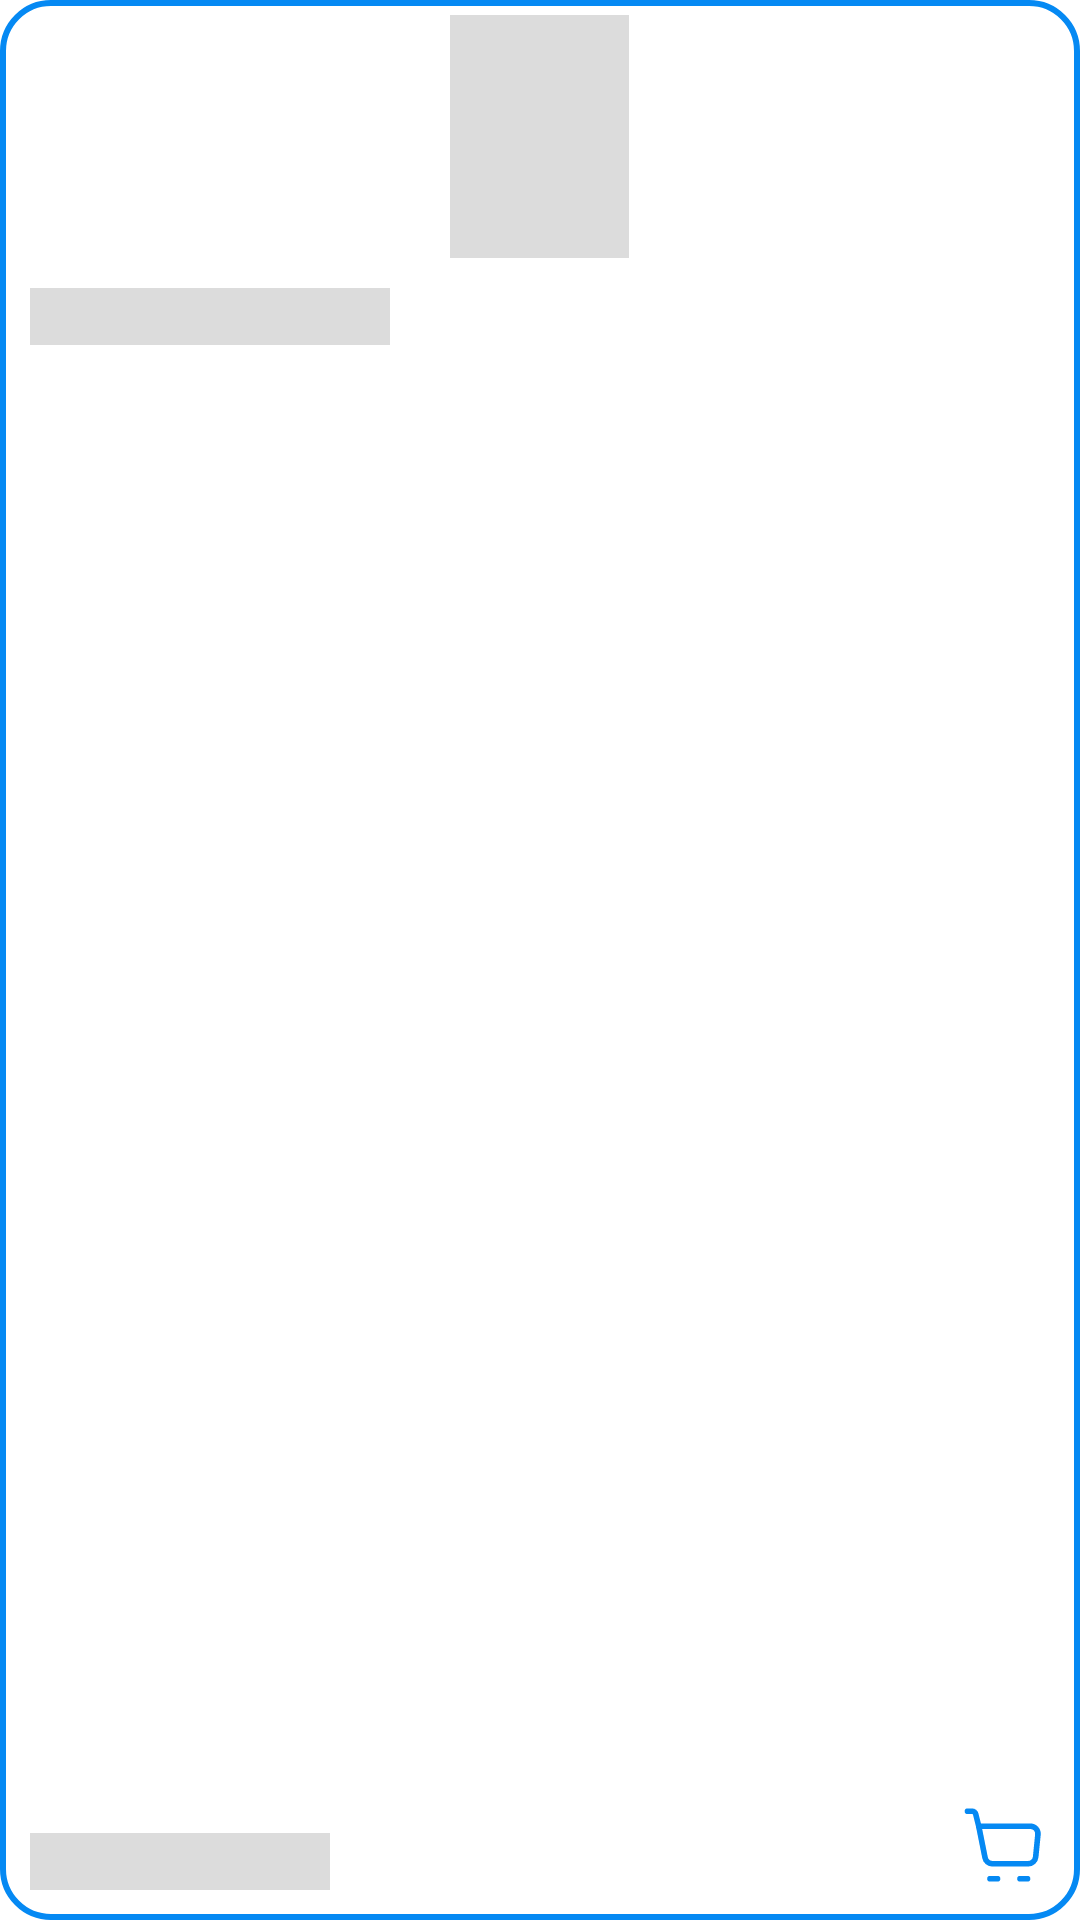

Icons on this 1080 x 1920 Android screen, each with its box as (x1, y1, x2, y2):
akar cart: (964, 1808, 1041, 1882)
